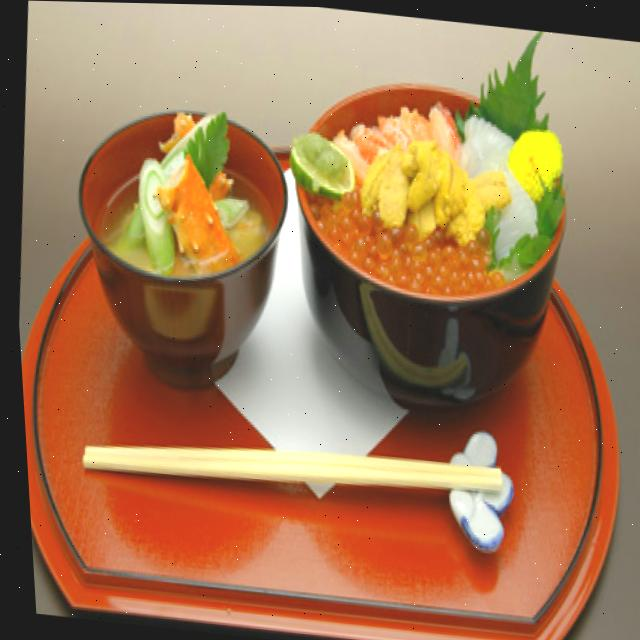刺身生食: (255, 4, 590, 433)
